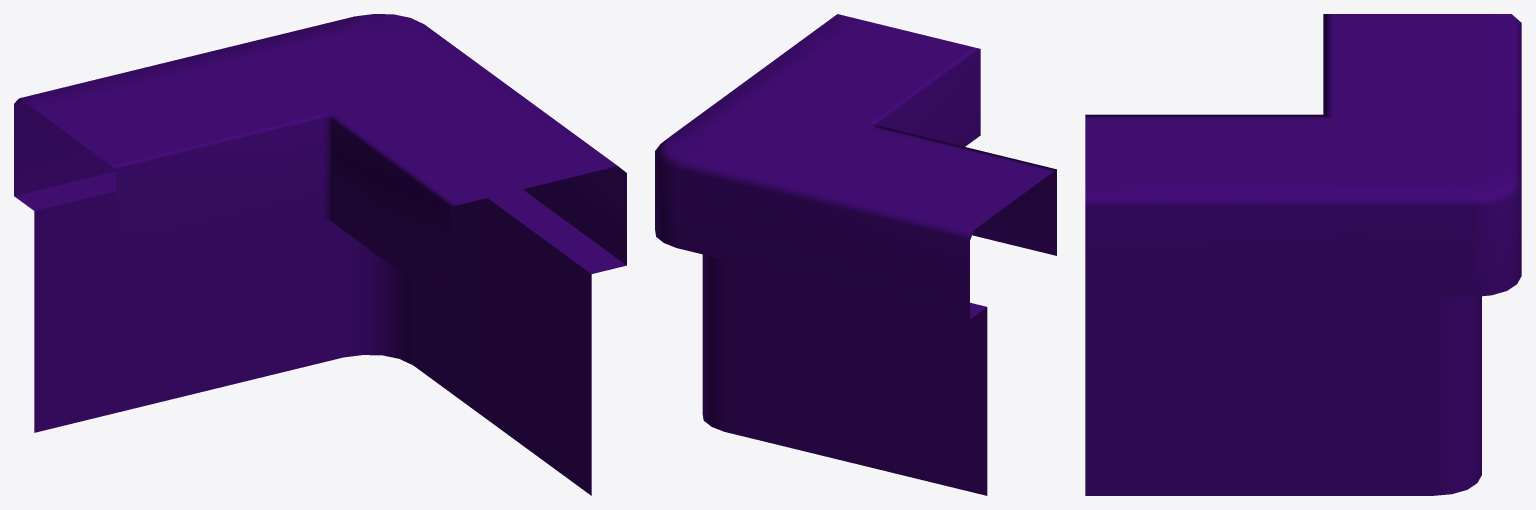
File: border_cushion_concave_a.fbx
The picture shows the model from 3 angles, left to right: view 1: azimuth 30°, elevation 25°; view 2: azimuth 150°, elevation 25°; view 3: azimuth 270°, elevation 25°; orthographic projection. The views are drawn at different scales.
Parts seen in each view (by area): view 1: lod0; view 2: lod0; view 3: lod0.
Boxes of the visible parts, x1=… form: lod0: x1=14, y1=14, x2=626, y2=495; lod0: x1=655, y1=14, x2=1056, y2=495; lod0: x1=1085, y1=14, x2=1521, y2=495.
Size of the model in its own units: 11 by 8.75 by 11.
